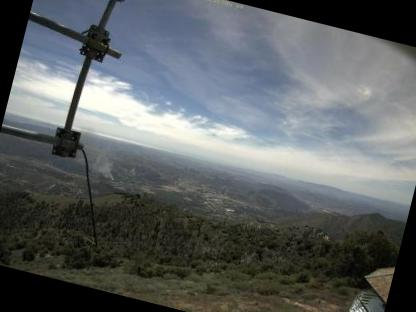Smoke: (74, 128, 124, 183)
